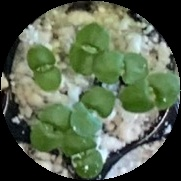Basil: (122, 72, 178, 116), (71, 84, 115, 139), (69, 21, 105, 81), (28, 99, 68, 153), (64, 127, 104, 178), (98, 47, 151, 84), (29, 47, 60, 89)
